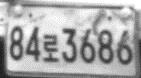3: (61, 28, 78, 63)
4: (24, 26, 41, 63)
6: (115, 29, 133, 65), (80, 28, 96, 64)
8: (96, 29, 115, 64), (8, 25, 24, 60)
로: (42, 34, 60, 63)
